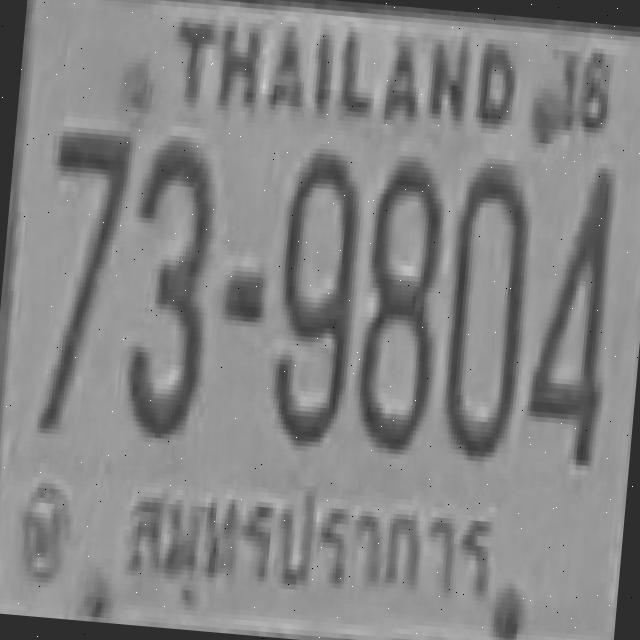0: (434, 157, 534, 456)
3: (117, 132, 216, 436)
4: (521, 158, 618, 461)
7: (31, 125, 130, 433)
8: (351, 153, 446, 451)
9: (264, 143, 363, 441)
SamutPrakan: (114, 458, 507, 618)
